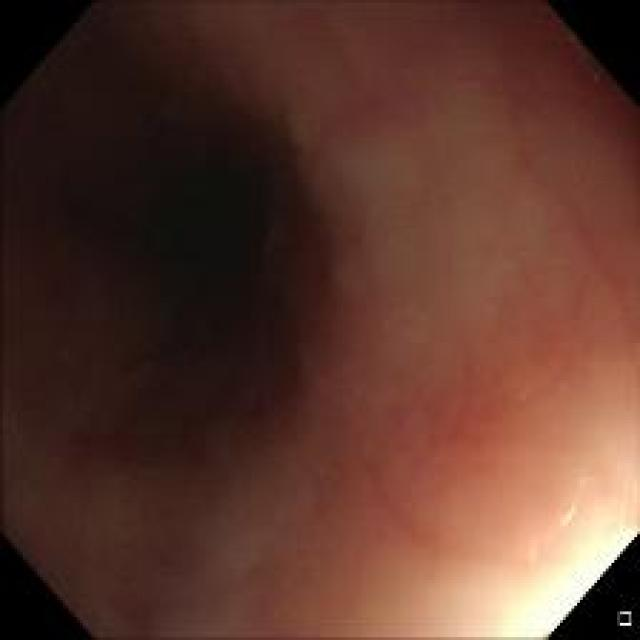blur: (10, 16, 622, 626)
contrast: (38, 78, 315, 485)
saturation: (519, 531, 625, 625)
specularity: (555, 502, 579, 530)
